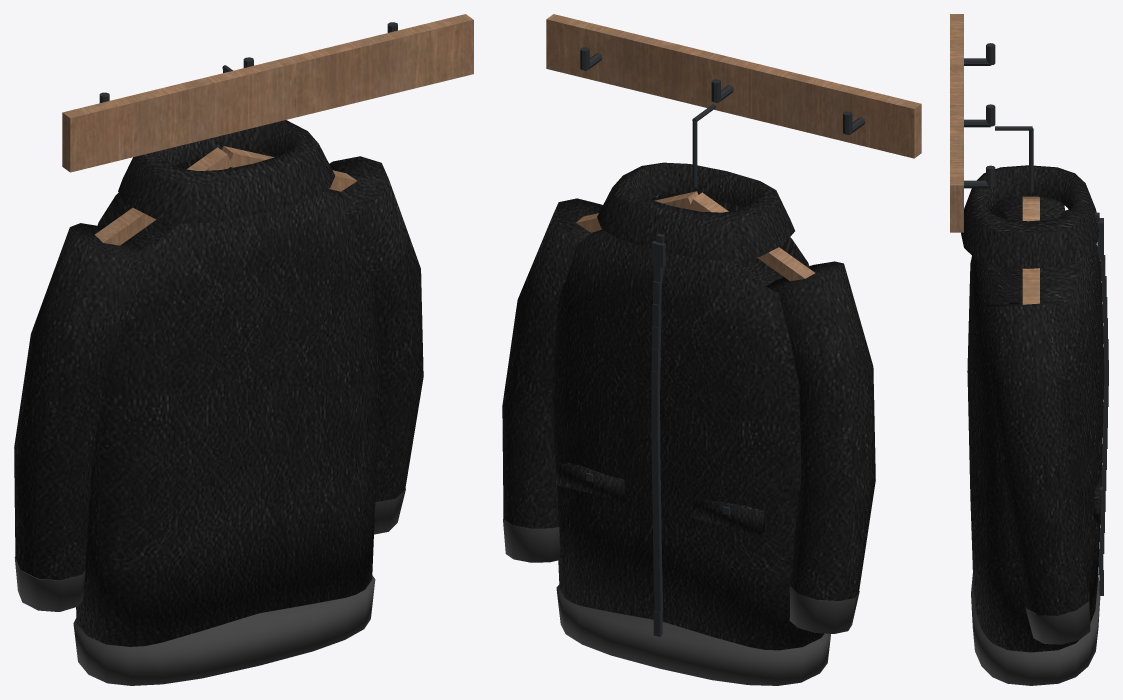
File: H_Jacket.fbx
3 renders of one model, left to right at view 1: azimuth 30°, elevation 25°; view 2: azimuth 150°, elevation 25°; view 3: azimuth 270°, elevation 25°, orthographic. The views are drawn at different scales.
Visible parts, largest first — view 1: Prop_Jacket, Prop_CoatRack; view 2: Prop_Jacket, Prop_CoatRack; view 3: Prop_Jacket, Prop_CoatRack.
Boxes of the visible parts, box(x1,y1,x2,y2) form: Prop_Jacket: box(14, 120, 423, 685); Prop_CoatRack: box(62, 14, 473, 172); Prop_Jacket: box(502, 162, 875, 685); Prop_CoatRack: box(546, 14, 921, 187); Prop_Jacket: box(961, 165, 1108, 685); Prop_CoatRack: box(950, 14, 1033, 232).
Bounding box in the file's own units: 70 × 101 × 27.4.
